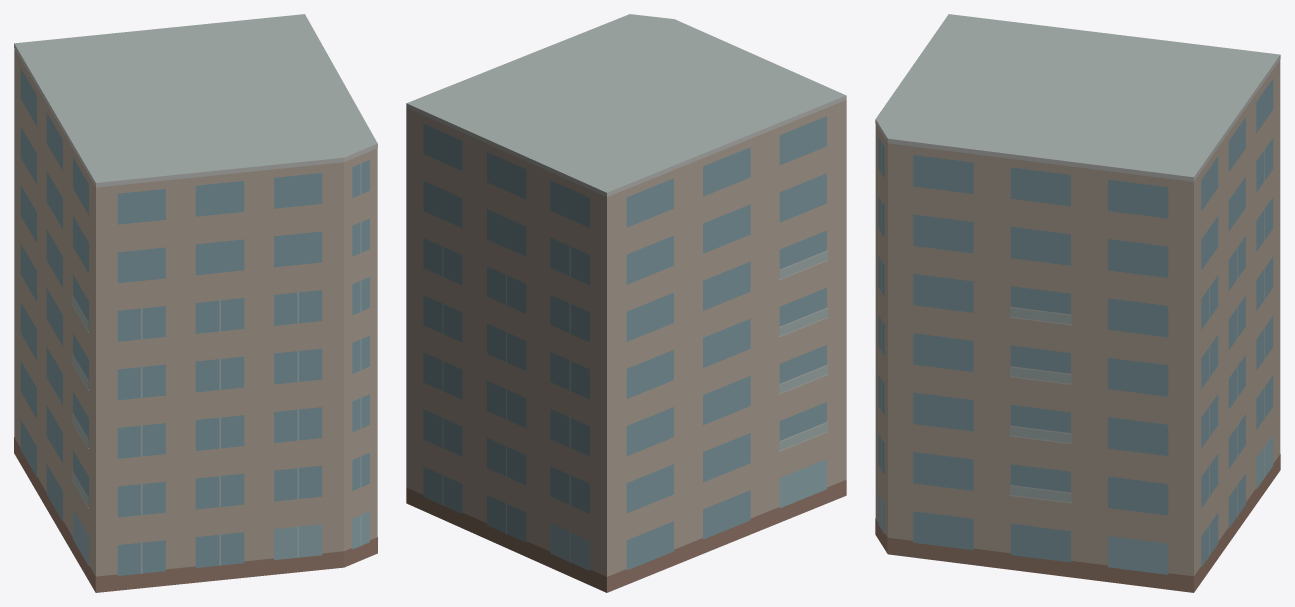
File: survey-upis-32580525.glb
3 renders of one model, left to right at view 1: azimuth 30°, elevation 25°; view 2: azimuth 150°, elevation 25°; view 3: azimuth 270°, elevation 25°, orthographic. The views are drawn at different scales.
Parts seen in each view (by area): view 1: survey-upis-32580525.tmp; view 2: survey-upis-32580525.tmp; view 3: survey-upis-32580525.tmp.
Boxes of the visible parts, bbox=[...] form: survey-upis-32580525.tmp: bbox=[14, 14, 377, 592]; survey-upis-32580525.tmp: bbox=[406, 14, 846, 592]; survey-upis-32580525.tmp: bbox=[875, 14, 1280, 592].
Size of the model in its own units: 18.63 by 22.1 by 19.52.
